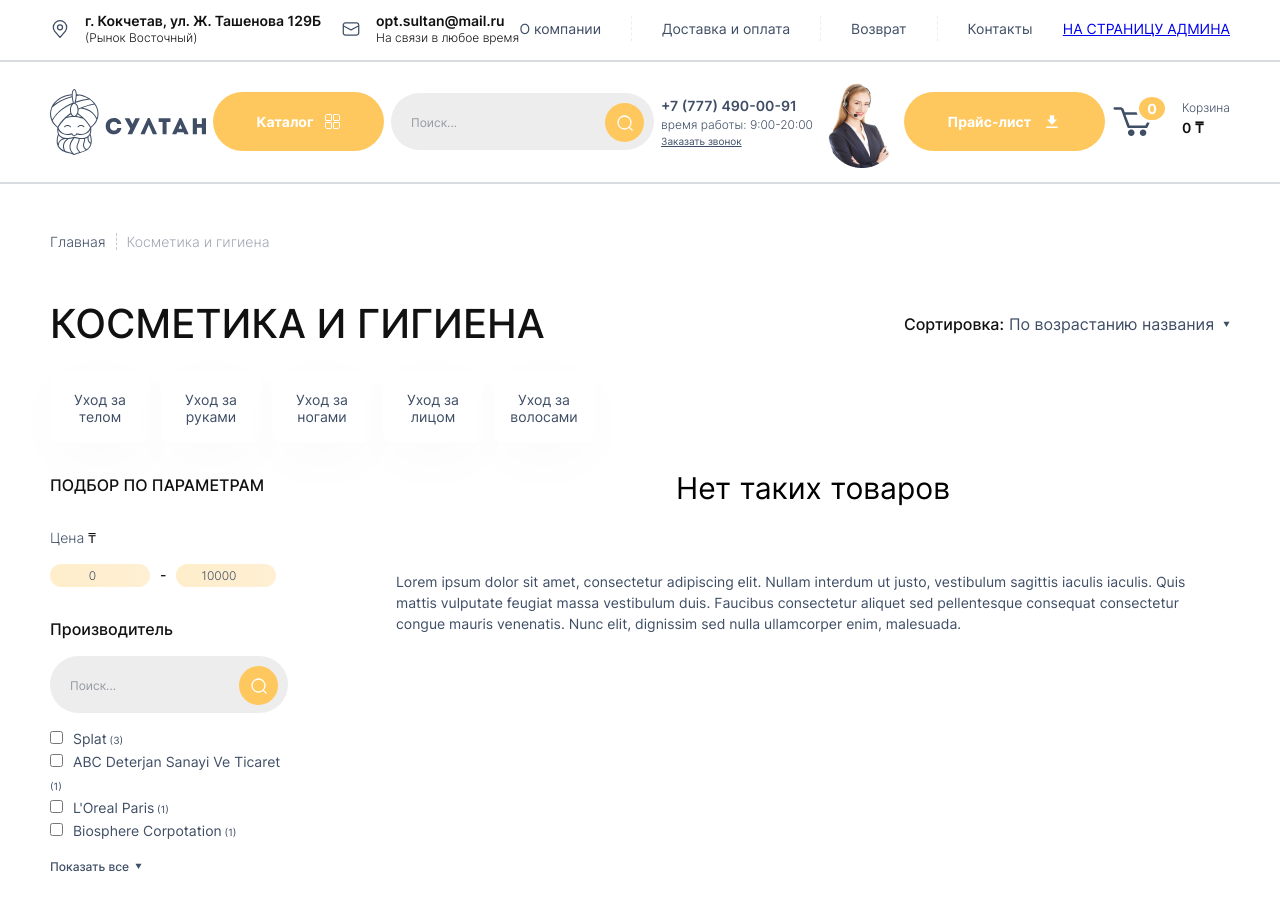
tests › Click on care type block changes care type checkbox
Click the element with test id "block-item" showing "Уход за телом": (100, 408) [50,373,150,443]
(page scrolled)
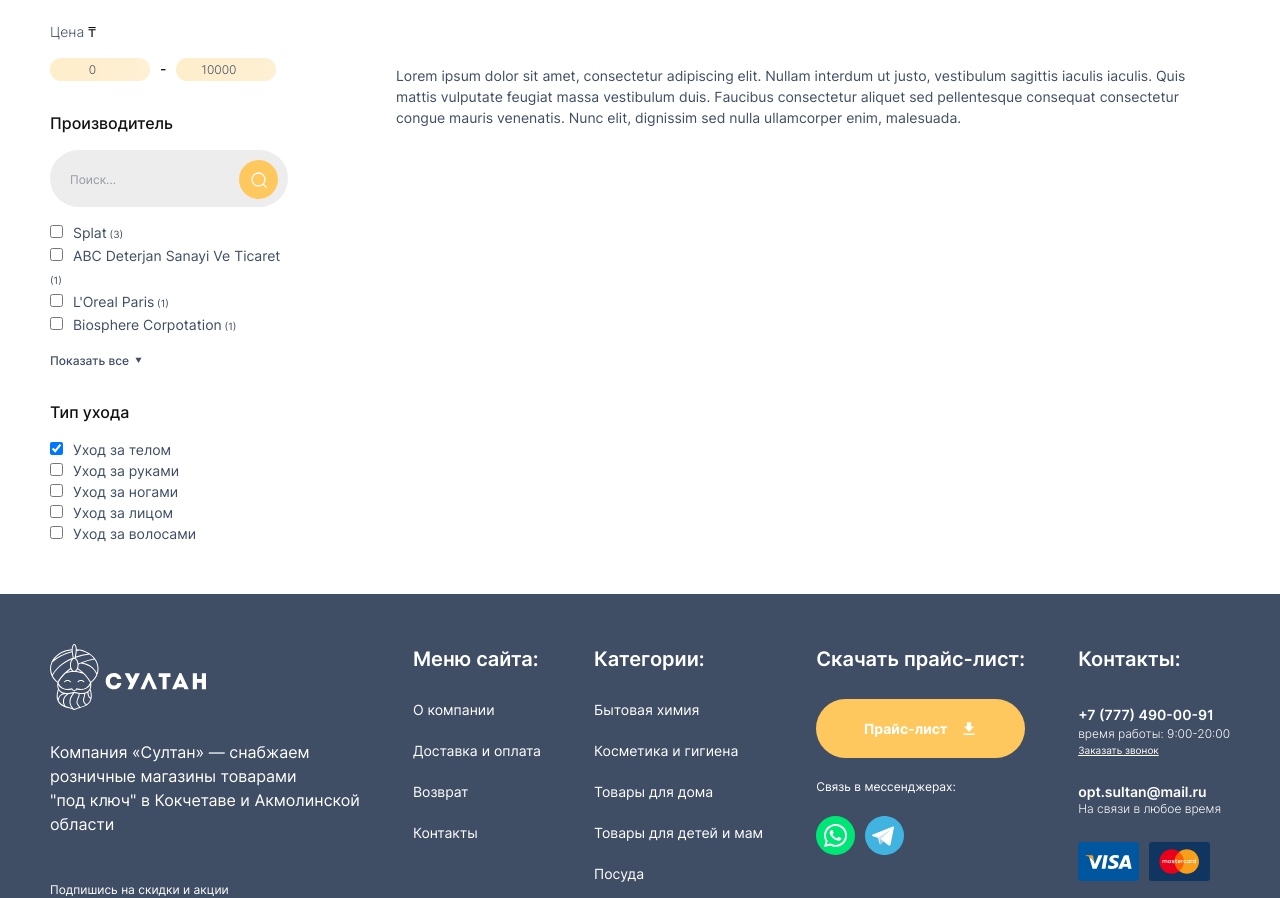
Check: the checkbox with test id "checkbox-input" showing "Уход за телом" is checked, box [50,442,63,455]
